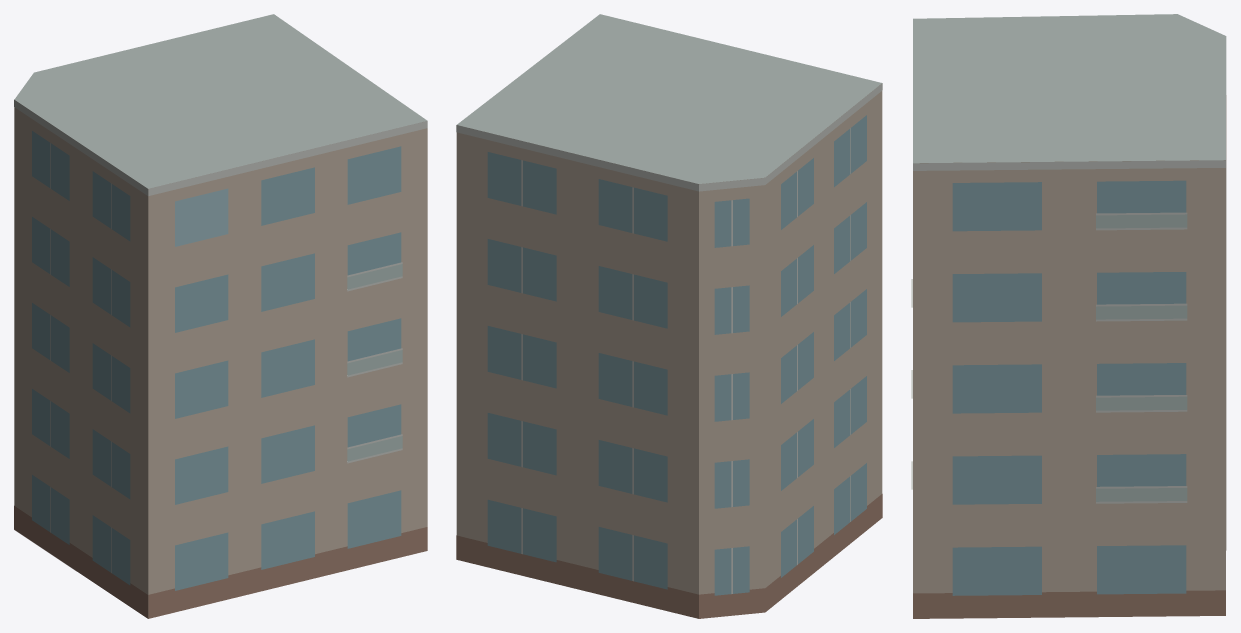
Rendered from survey-upis-32632215.glb.
3 views of the same model, side by side, from view 1: azimuth 30°, elevation 25°; view 2: azimuth 150°, elevation 25°; view 3: azimuth 270°, elevation 25° (orthographic). The views are drawn at different scales.
Visible parts, largest first — view 1: survey-upis-32632215.tmp; view 2: survey-upis-32632215.tmp; view 3: survey-upis-32632215.tmp.
Boxes of the visible parts, x1=… form: survey-upis-32632215.tmp: x1=14, y1=14, x2=427, y2=618; survey-upis-32632215.tmp: x1=456, y1=14, x2=882, y2=618; survey-upis-32632215.tmp: x1=911, y1=14, x2=1226, y2=618.
Size of the model in its own units: 10.05 by 14.3 by 8.96.
